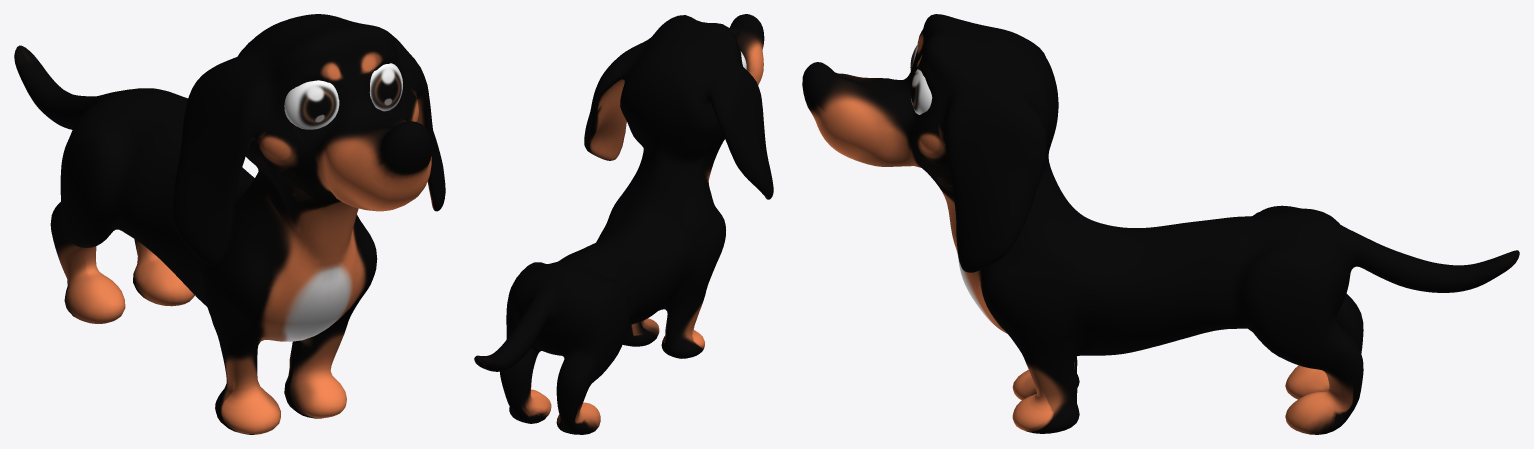
File: asset.glb
3 views of the same model, side by side, from view 1: azimuth 30°, elevation 25°; view 2: azimuth 150°, elevation 25°; view 3: azimuth 270°, elevation 25° (orthographic). The views are drawn at different scales.
Visible parts, largest first — view 1: Object_2, Object_3; view 2: Object_2; view 3: Object_2, Object_3.
Boxes of the visible parts, x1,y1,x2,y2 form: Object_2: [14, 14, 445, 434]; Object_3: [284, 63, 402, 129]; Object_2: [474, 14, 773, 434]; Object_2: [802, 14, 1519, 434]; Object_3: [910, 45, 932, 114].
Size of the model in its own units: 0.3675 by 0.5756 by 0.9654.
Materials: 2 (2 with a texture image).
